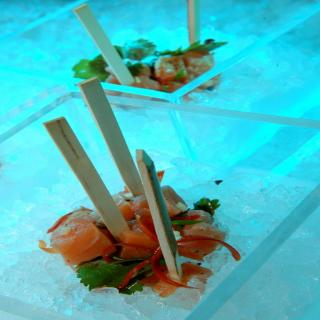Salad: (35, 166, 244, 304), (67, 36, 236, 102)
